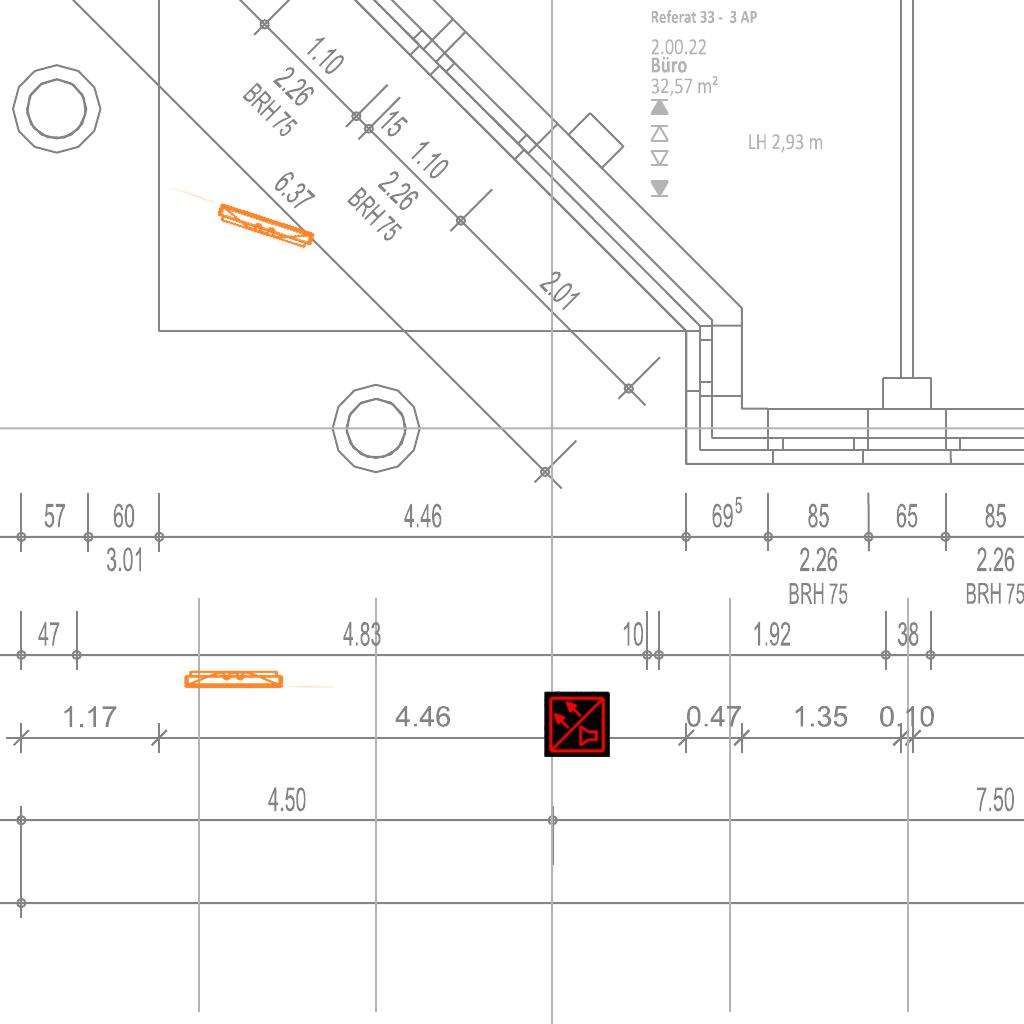OKW_Multisensormelder_(Kombination_optischer_Rauch-Kahlenmonoxid_Waerme-Melder): (544, 691, 610, 757)
Sicherheitsleuchte_Wandeinbau: (162, 183, 321, 256), (179, 666, 338, 691)
